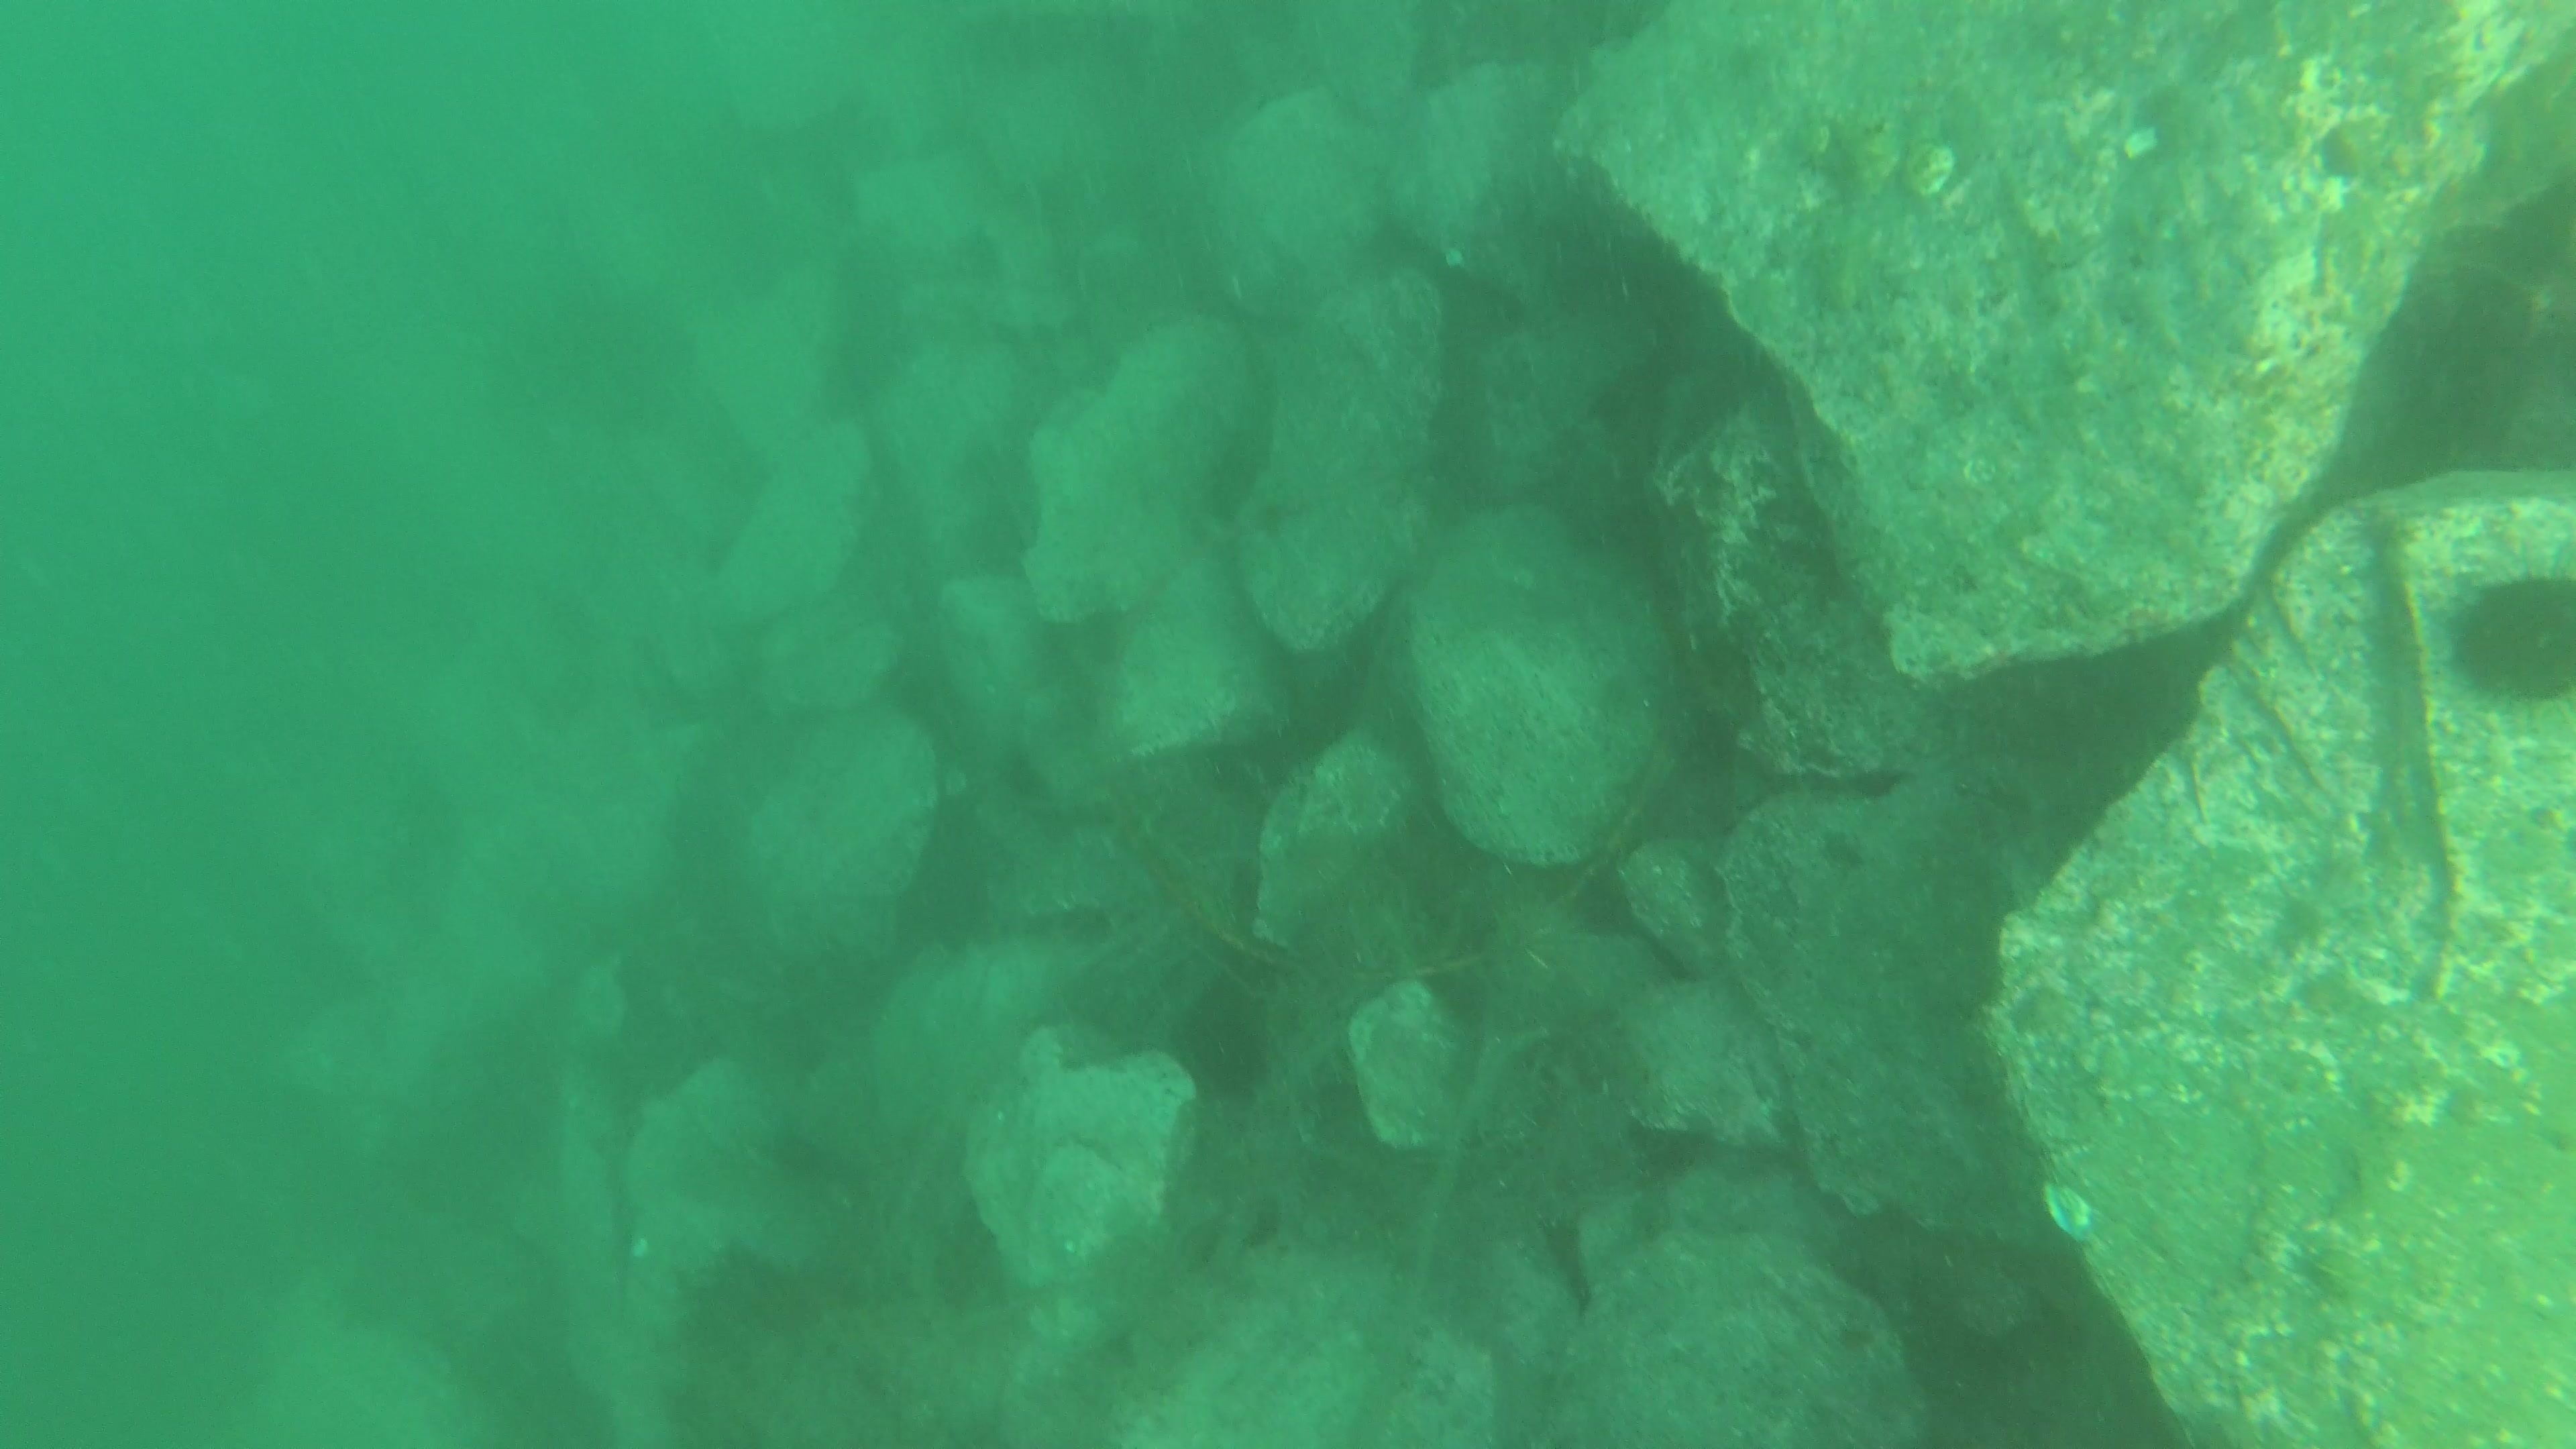echinus: (2443, 561, 2576, 711), (1168, 980, 1281, 1104)
